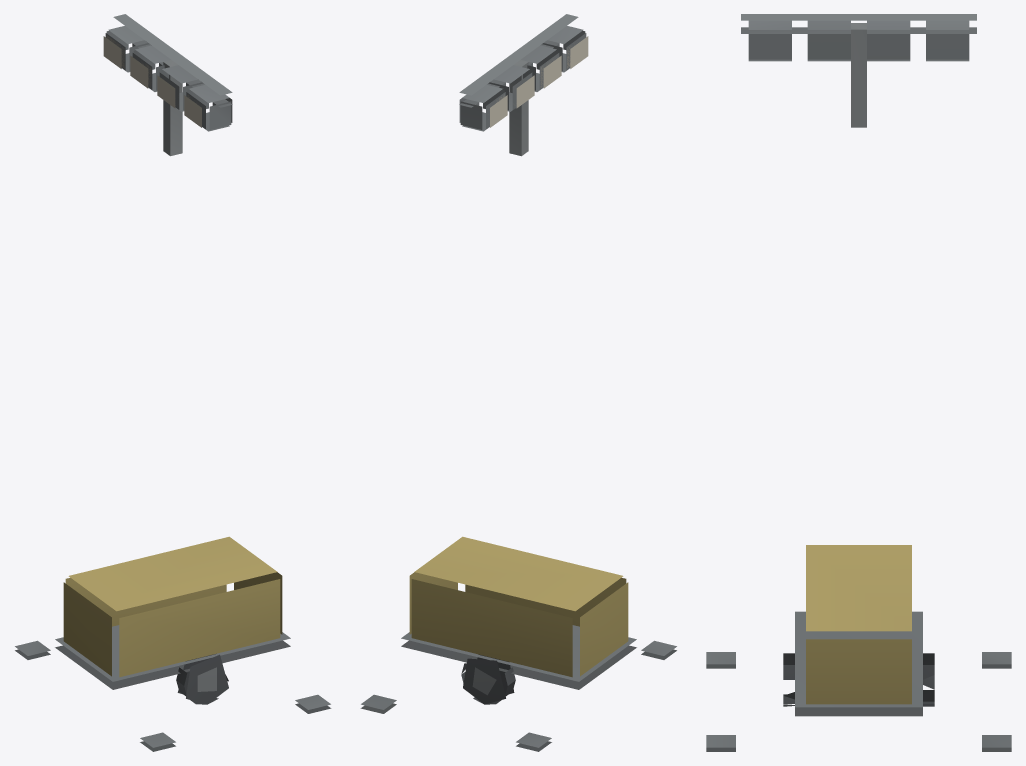
The model's file is mil_light_tower.lod.glb.
The picture shows the model from 3 angles, left to right: view 1: azimuth 30°, elevation 25°; view 2: azimuth 150°, elevation 25°; view 3: azimuth 270°, elevation 25°; orthographic projection. The views are drawn at different scales.
Parts seen in each view (by area): view 1: mil_light_tower; view 2: mil_light_tower; view 3: mil_light_tower.
Part boxes in pixels (left/top/right/bottom): mil_light_tower: left=15, top=14, right=331, bottom=751; mil_light_tower: left=360, top=14, right=676, bottom=751; mil_light_tower: left=706, top=14, right=1011, bottom=751.
Bounding box in the file's own units: 2.3 × 7.7 × 3.1.
